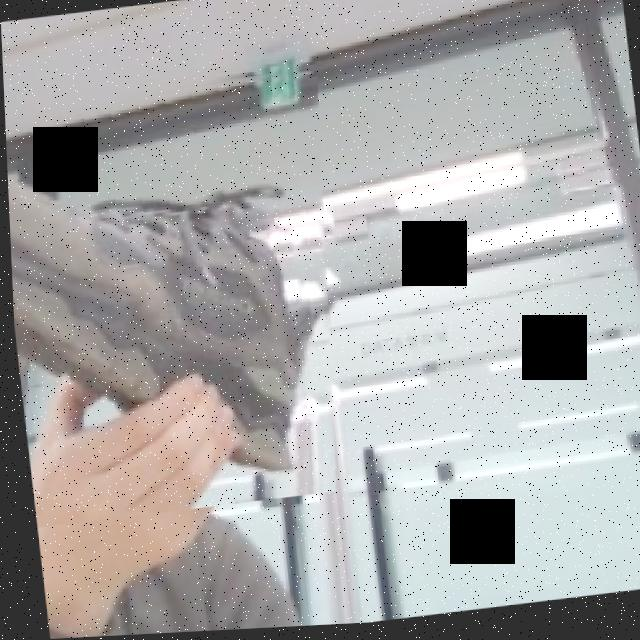shoe: (3, 60, 360, 528)
